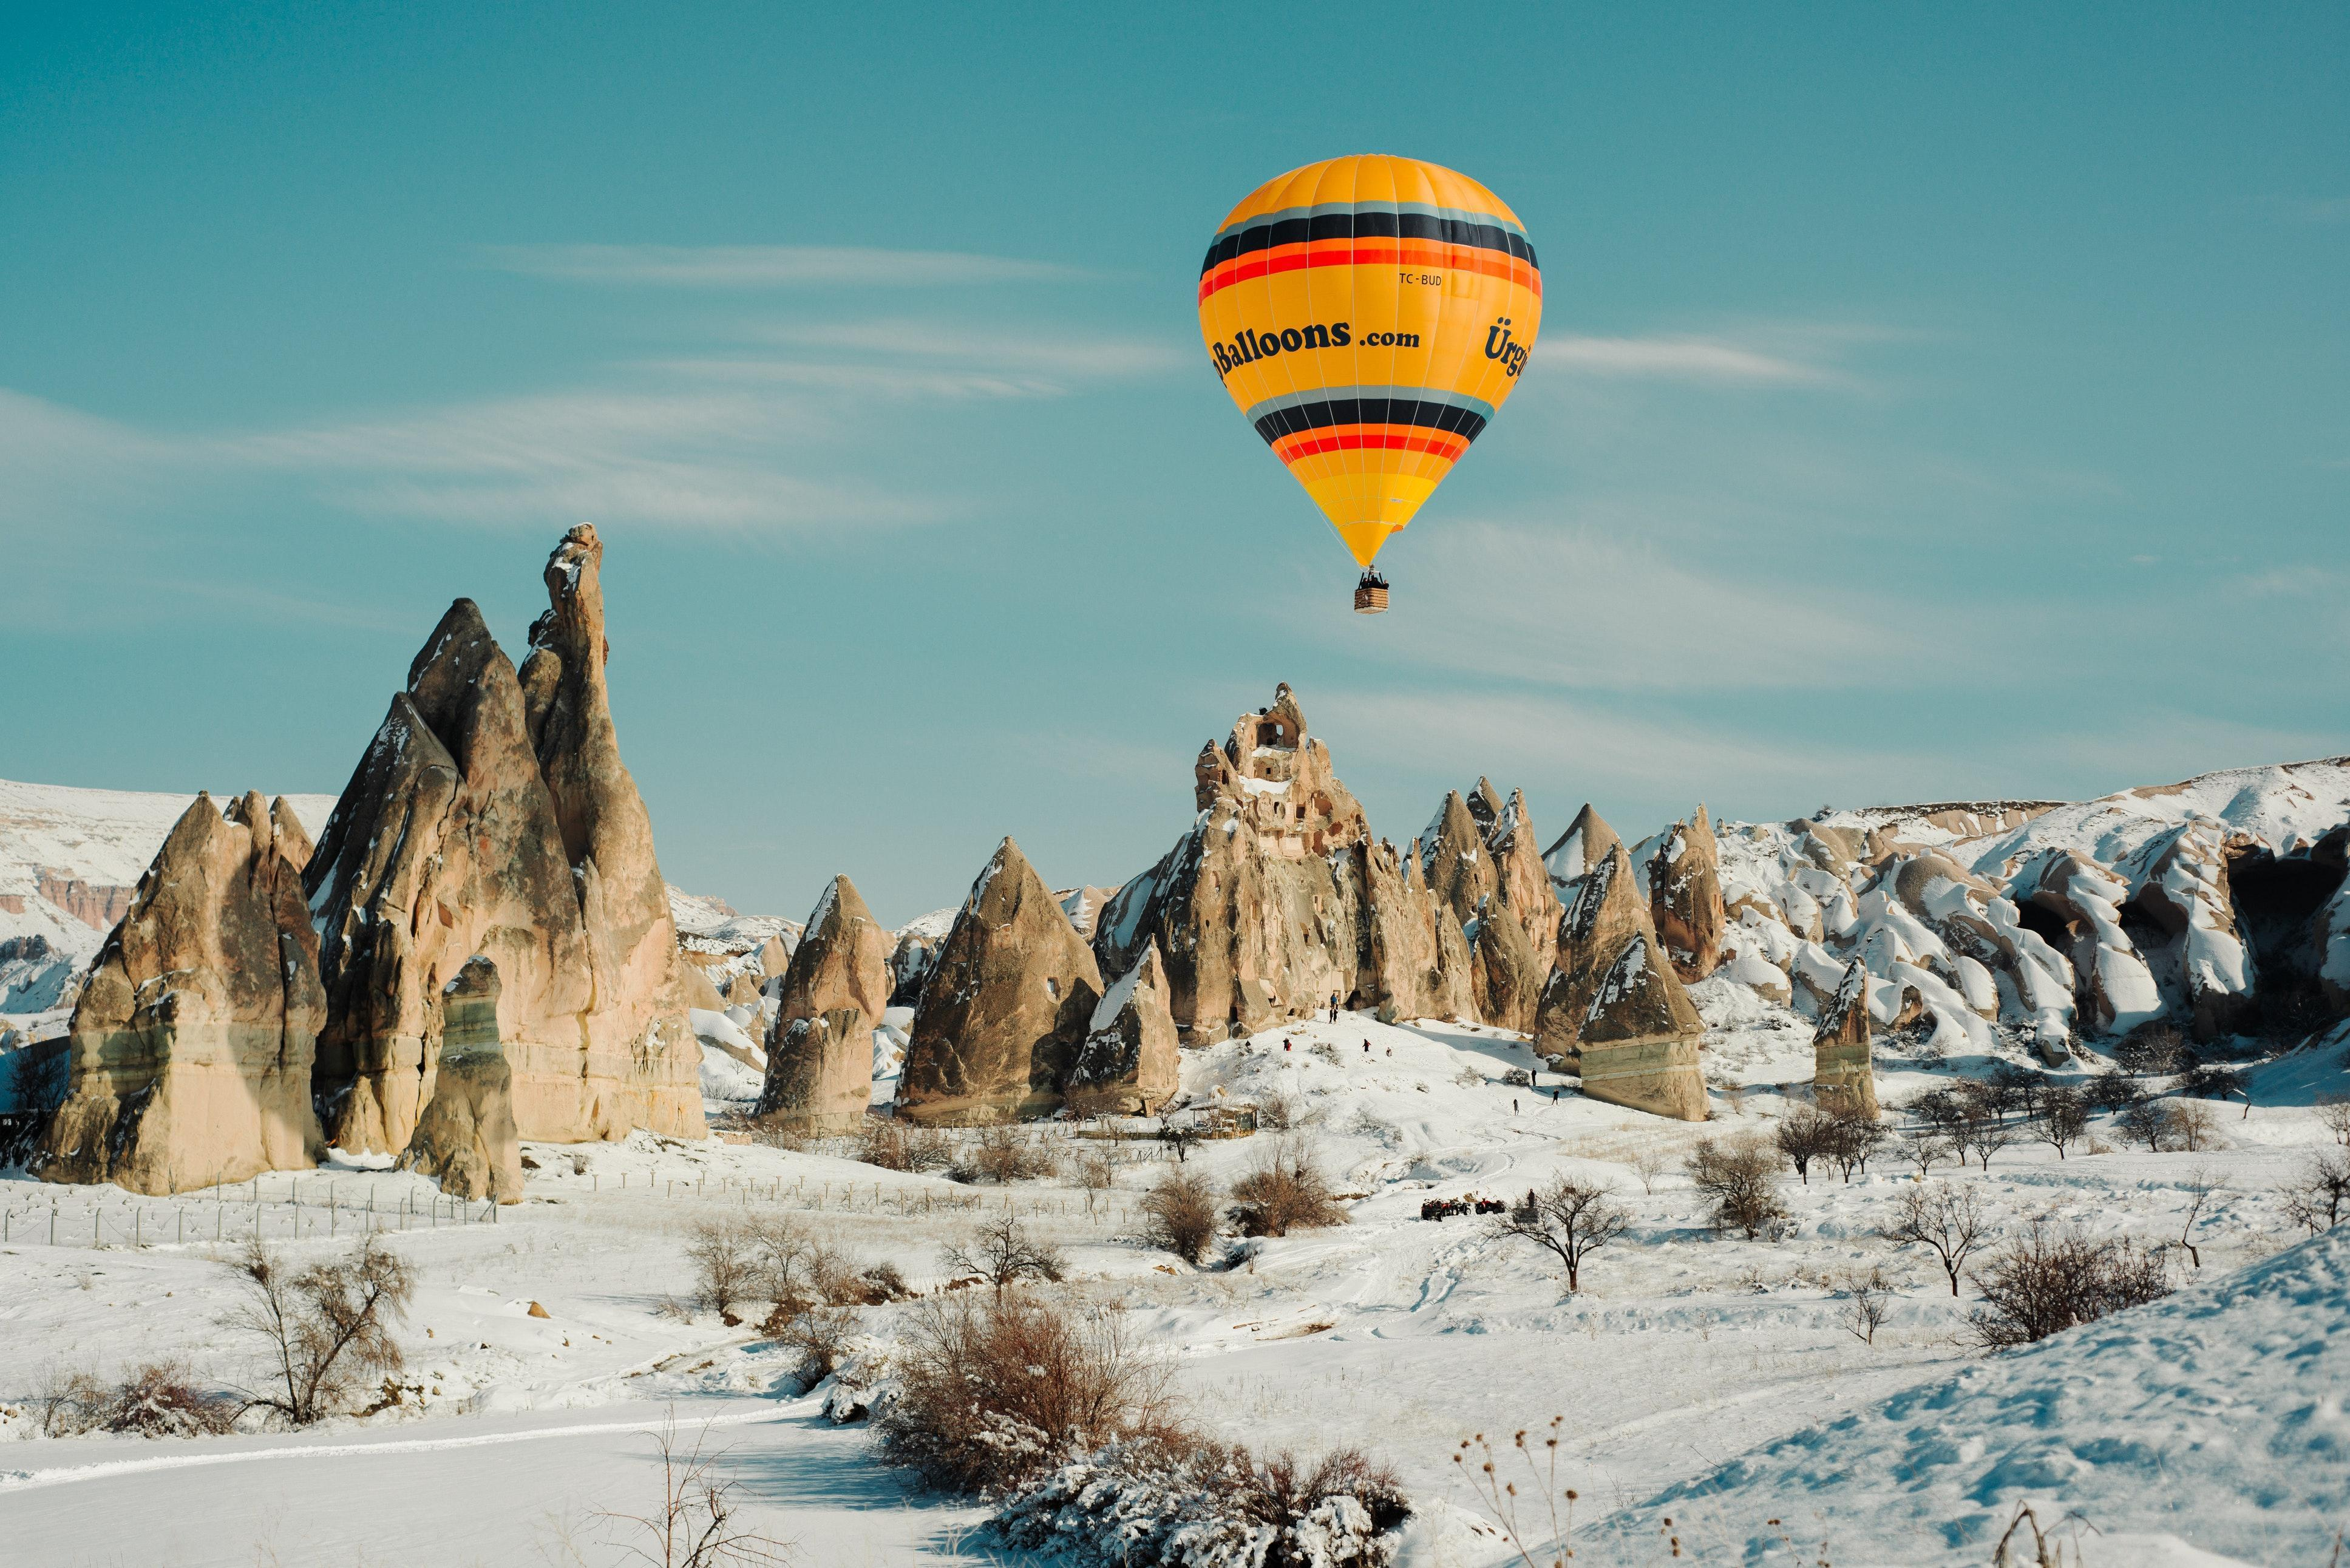hot air ballon: (1185, 154, 1550, 618)
